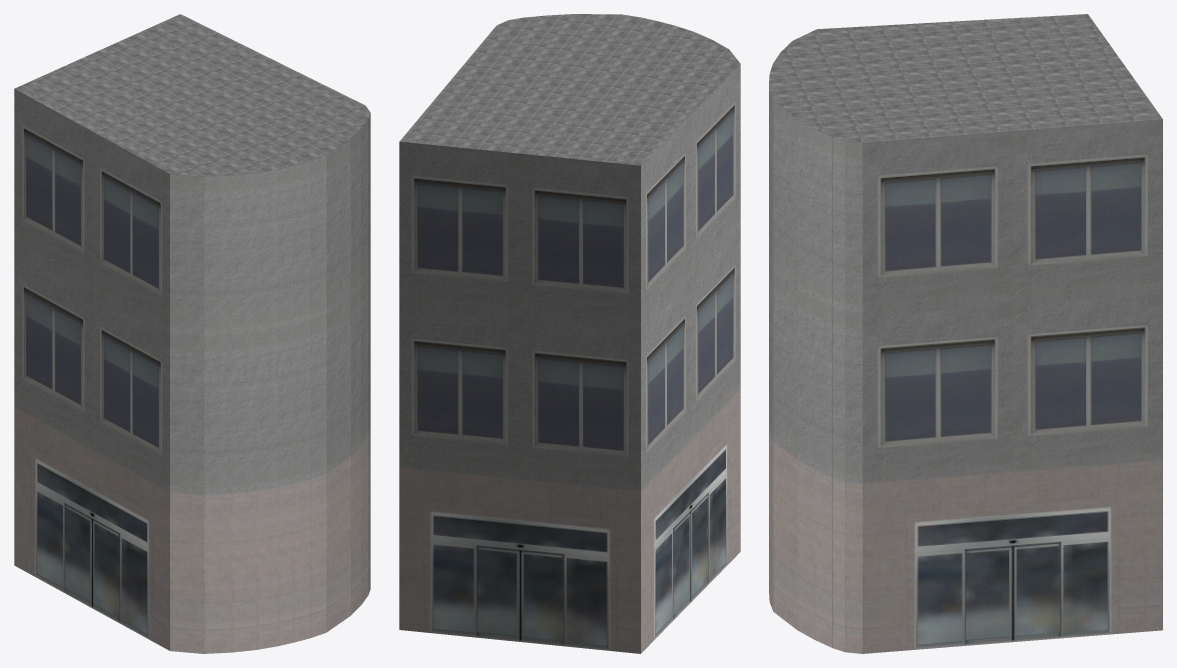
3 renders of one model, left to right at view 1: azimuth 30°, elevation 25°; view 2: azimuth 150°, elevation 25°; view 3: azimuth 270°, elevation 25°, orthographic. The views are drawn at different scales.
Parts seen in each view (by area): view 1: BuildingMaster_0000194372494461893400000000_0, BuildingMaster_0000194372494461893400000000_1; view 2: BuildingMaster_0000194372494461893400000000_0, BuildingMaster_0000194372494461893400000000_1; view 3: BuildingMaster_0000194372494461893400000000_0, BuildingMaster_0000194372494461893400000000_1.
Boxes of the visible parts, x1,y1,x2,y2 form: BuildingMaster_0000194372494461893400000000_0: [14, 88, 370, 653]; BuildingMaster_0000194372494461893400000000_1: [15, 14, 370, 176]; BuildingMaster_0000194372494461893400000000_0: [399, 64, 740, 653]; BuildingMaster_0000194372494461893400000000_1: [400, 14, 740, 165]; BuildingMaster_0000194372494461893400000000_0: [769, 83, 1162, 653]; BuildingMaster_0000194372494461893400000000_1: [769, 14, 1162, 142].
Bounding box in the file's own units: 5.67 × 10.5 × 7.33.
2 materials, 2 textured.
